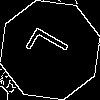L: (25, 25, 79, 72)
